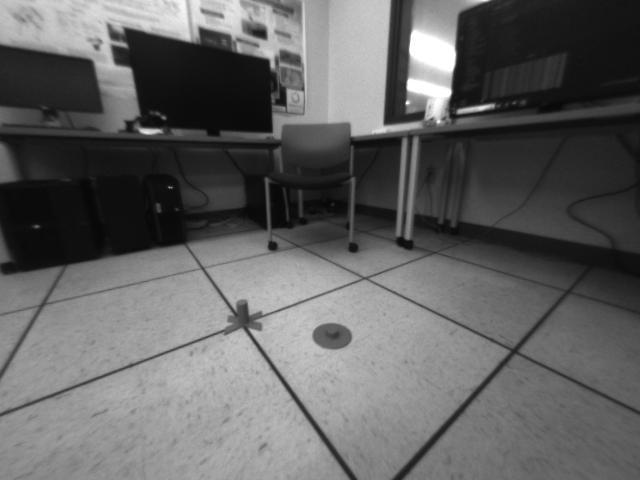X: (224, 299, 264, 335)
